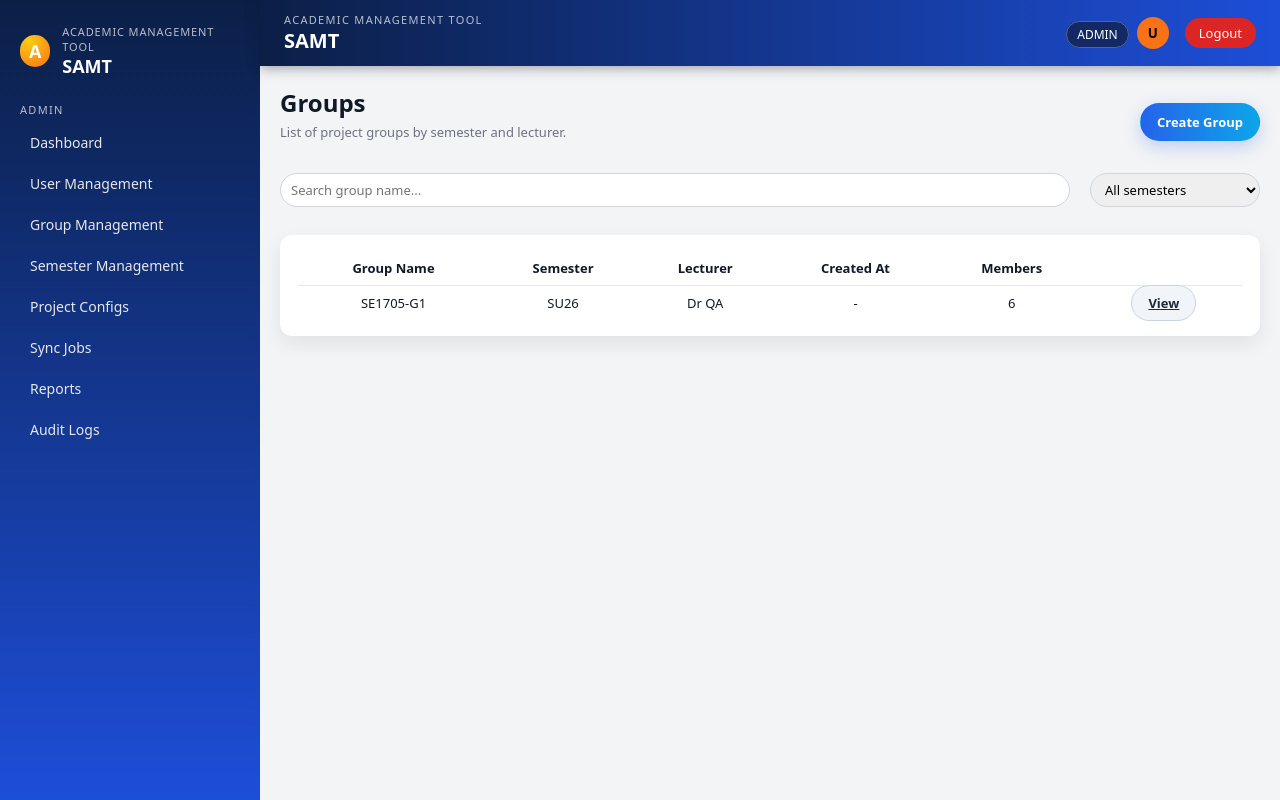
Test case: GroupList page › creates a group successfully and refreshes groups query
The image size is (1280, 800).
Click the button "Create Group". click: (1200, 122)
box: top-left (1140, 103), bottom-right (1260, 141)
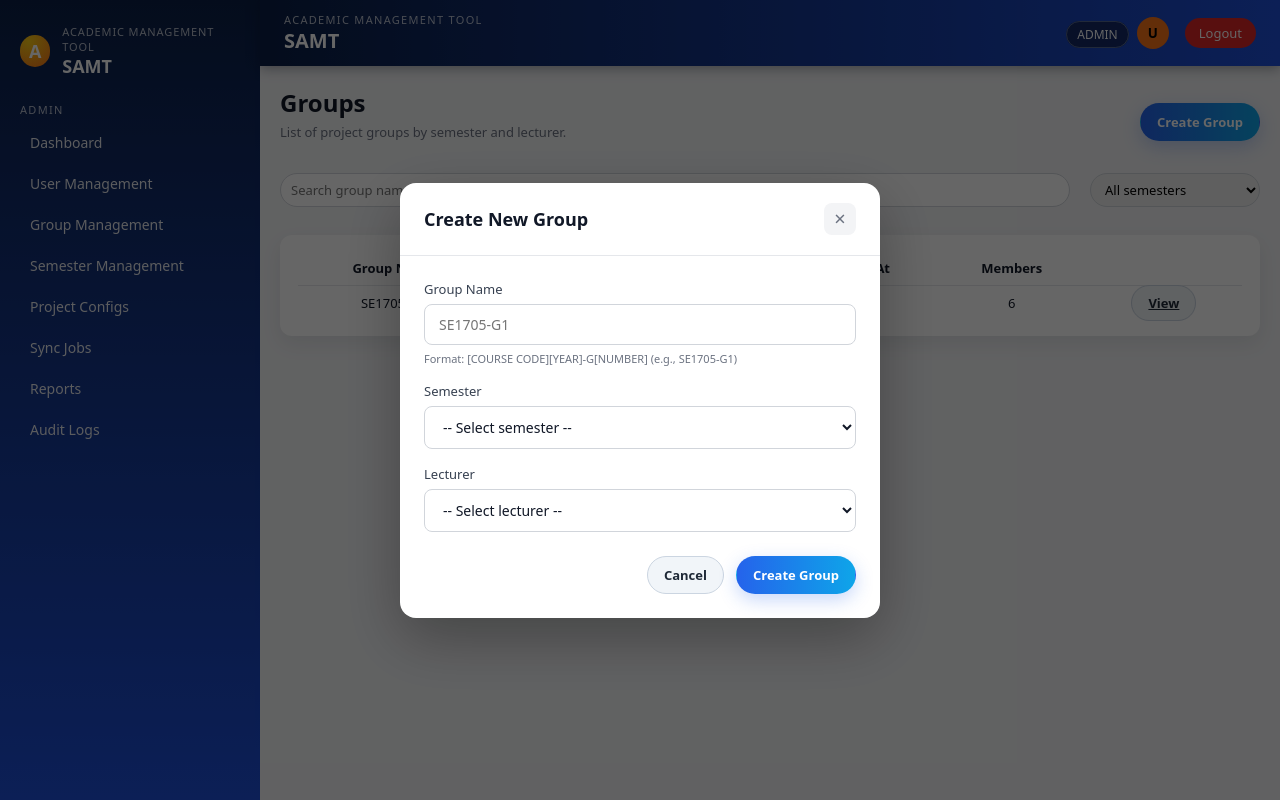
Type " SE1706-G2 " into the field with placeholder "SE1705-G1". click: (640, 324)
box: top-left (424, 304), bottom-right (856, 344)
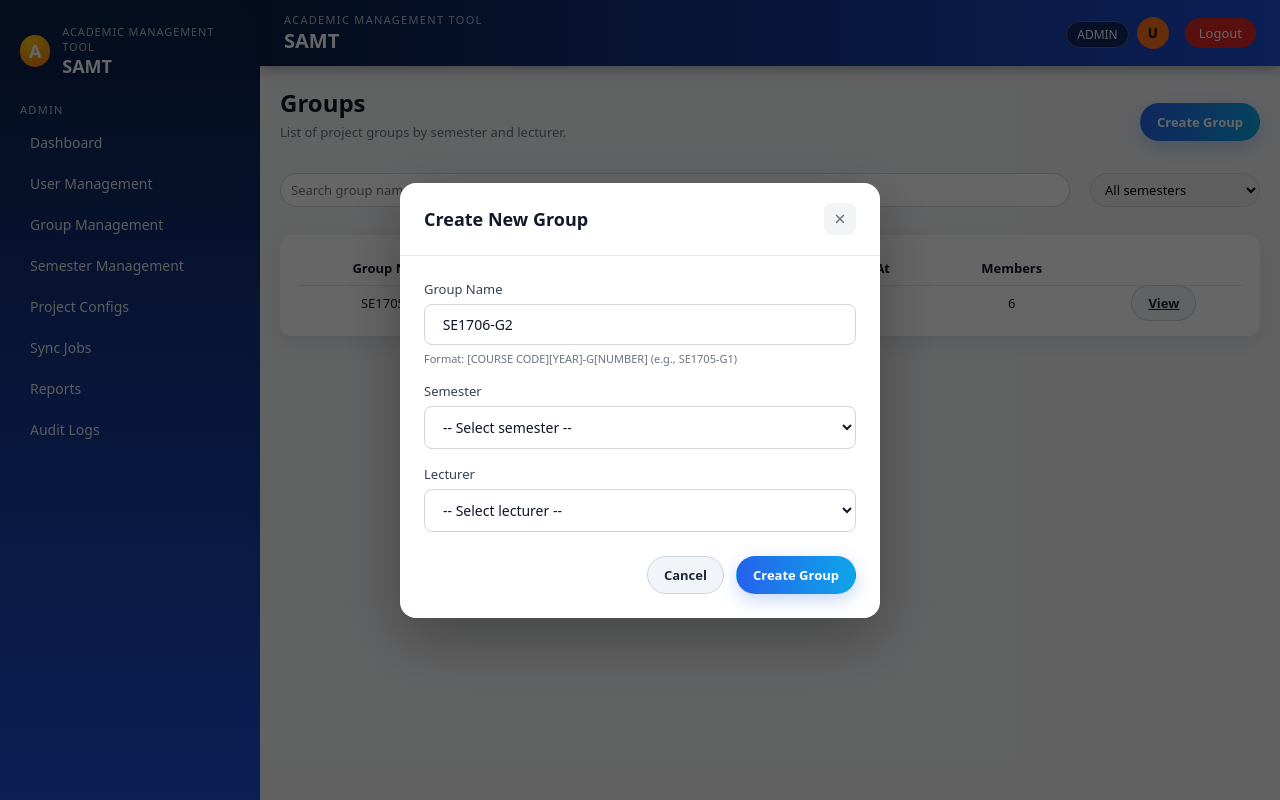
Select "SU26 - Summer 2026" in the dropdown labelled "Semester". click: (640, 427)
box: top-left (424, 406), bottom-right (856, 448)
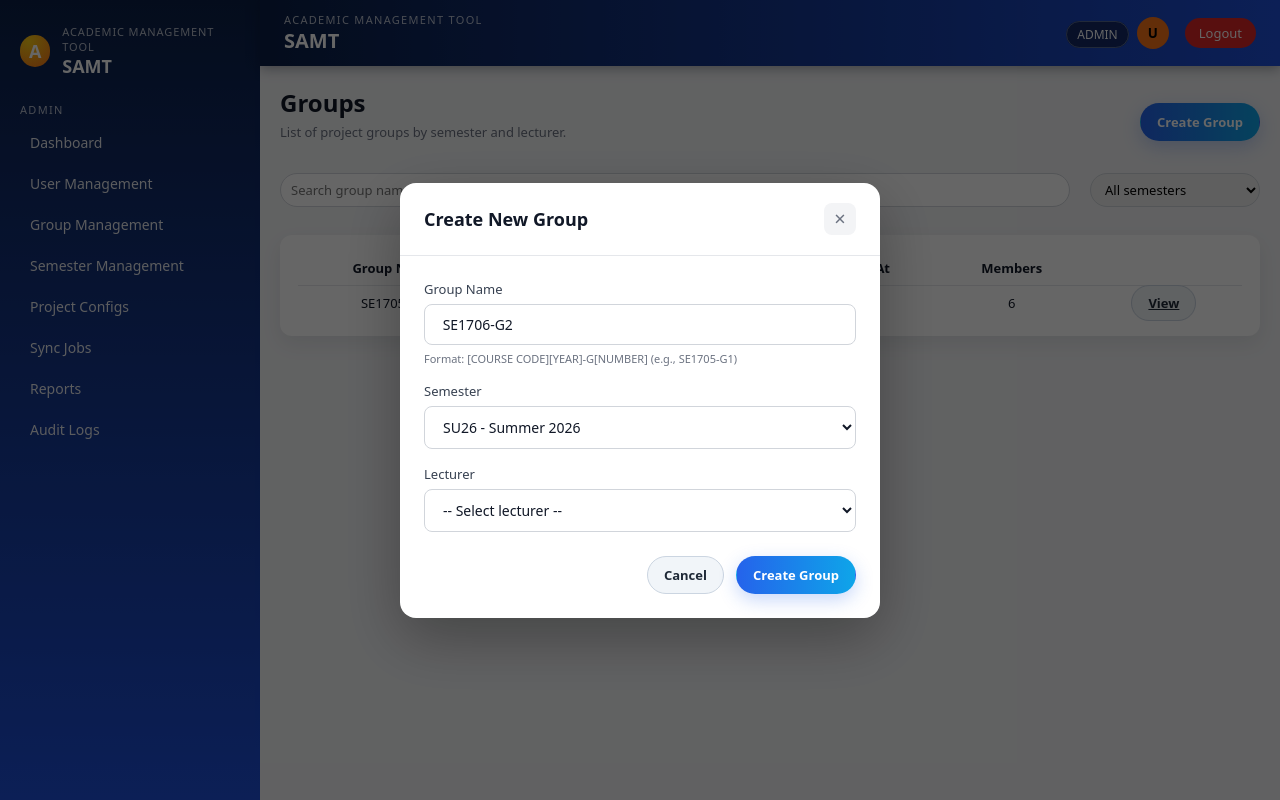
Select "Dr QA (qa@edu.vn)" in the dropdown labelled "Lecturer". click: (640, 510)
box: top-left (424, 488), bottom-right (856, 532)
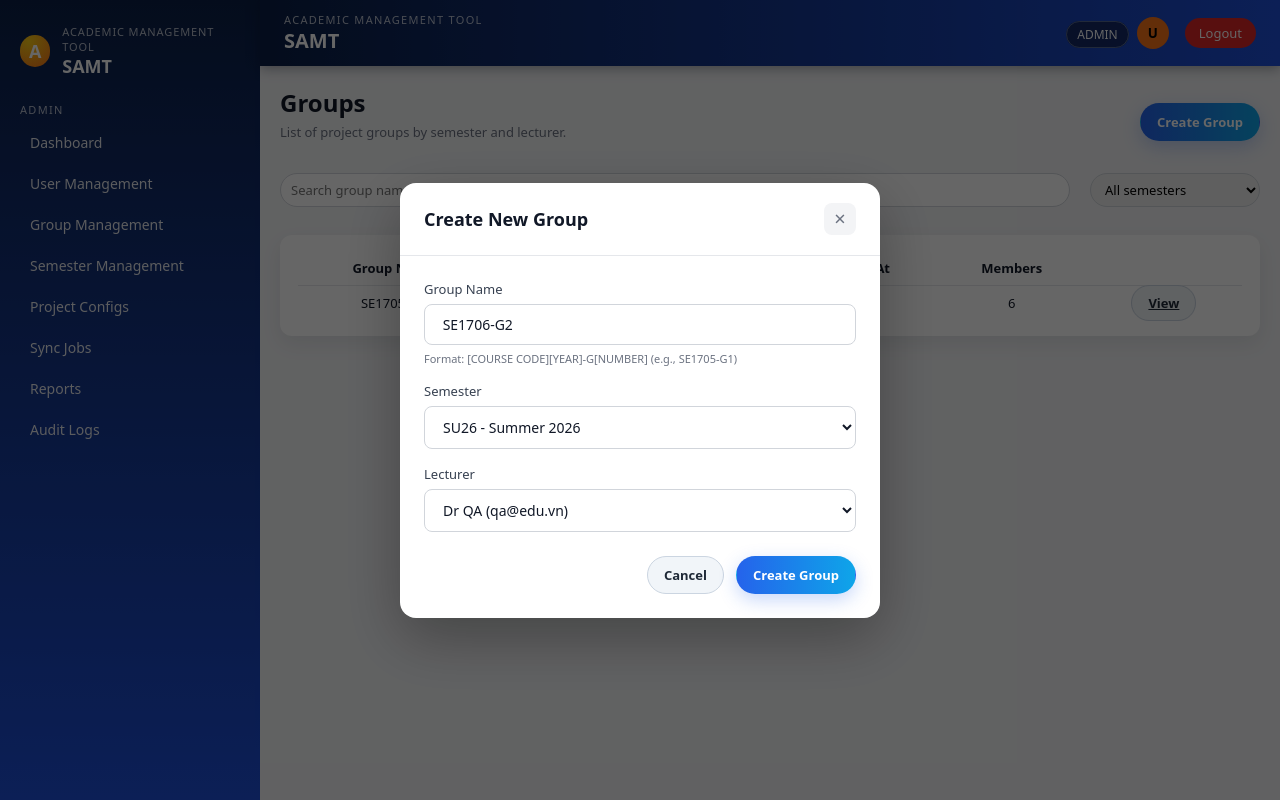
Click the submit button. click: (796, 574)
box: top-left (736, 556), bottom-right (856, 594)
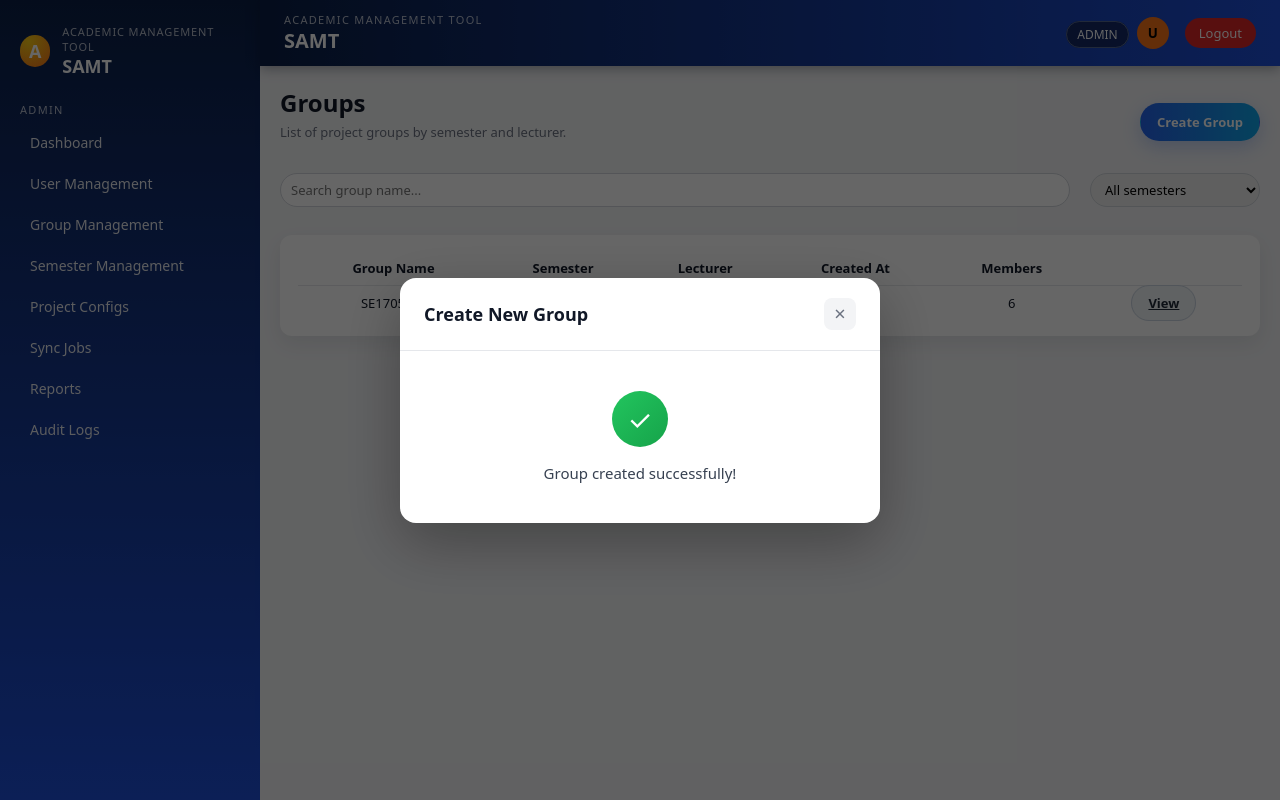
Expected: the text "Group created successfully!" is shown, top-left (544, 462), bottom-right (736, 482)
